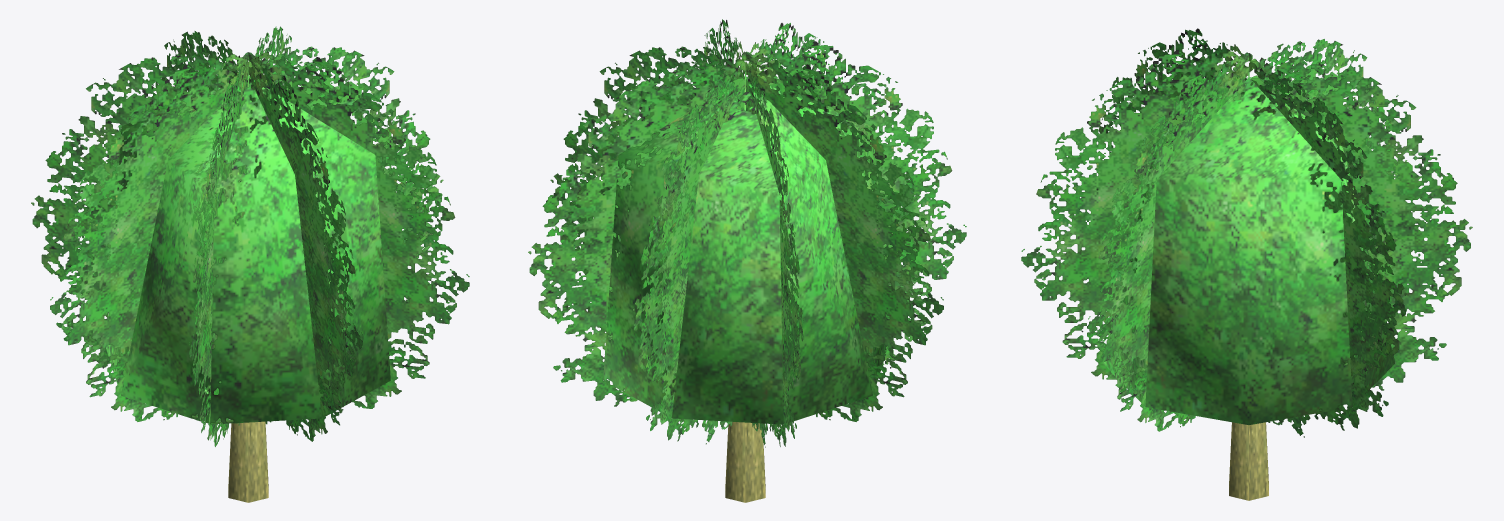
The model's file is BigTree.fbx.
3 renders of one model, left to right at view 1: azimuth 30°, elevation 25°; view 2: azimuth 150°, elevation 25°; view 3: azimuth 270°, elevation 25°, orthographic.
Parts seen in each view (by area): view 1: TreeB.060; view 2: TreeB.060; view 3: TreeB.060.
Part boxes in pixels (left/top/right/bottom): TreeB.060: left=31, top=26, right=469, bottom=502; TreeB.060: left=528, top=19, right=966, bottom=502; TreeB.060: left=1021, top=28, right=1472, bottom=500.
Bounding box in the file's own units: 171 × 175 × 171.
1 material, 1 textured.
